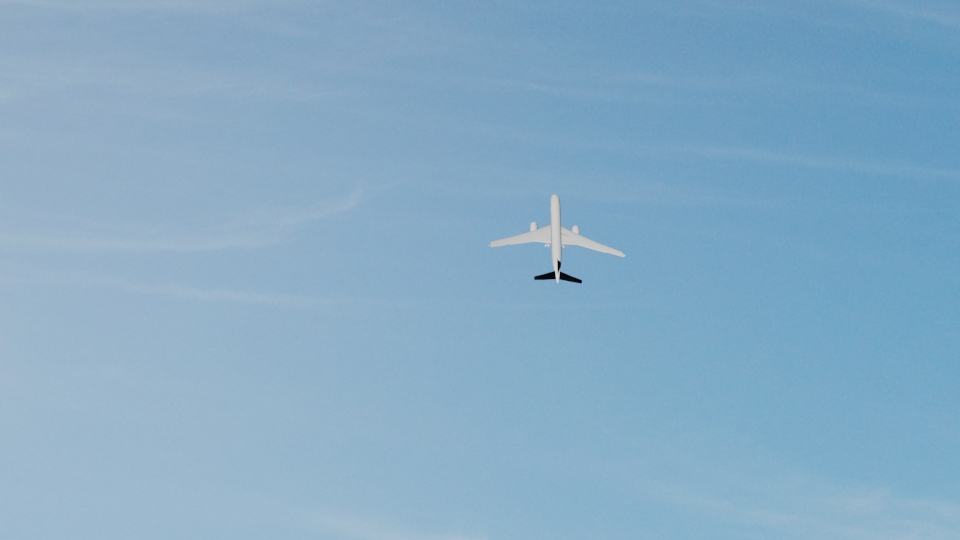plane: (489, 192, 624, 286)
